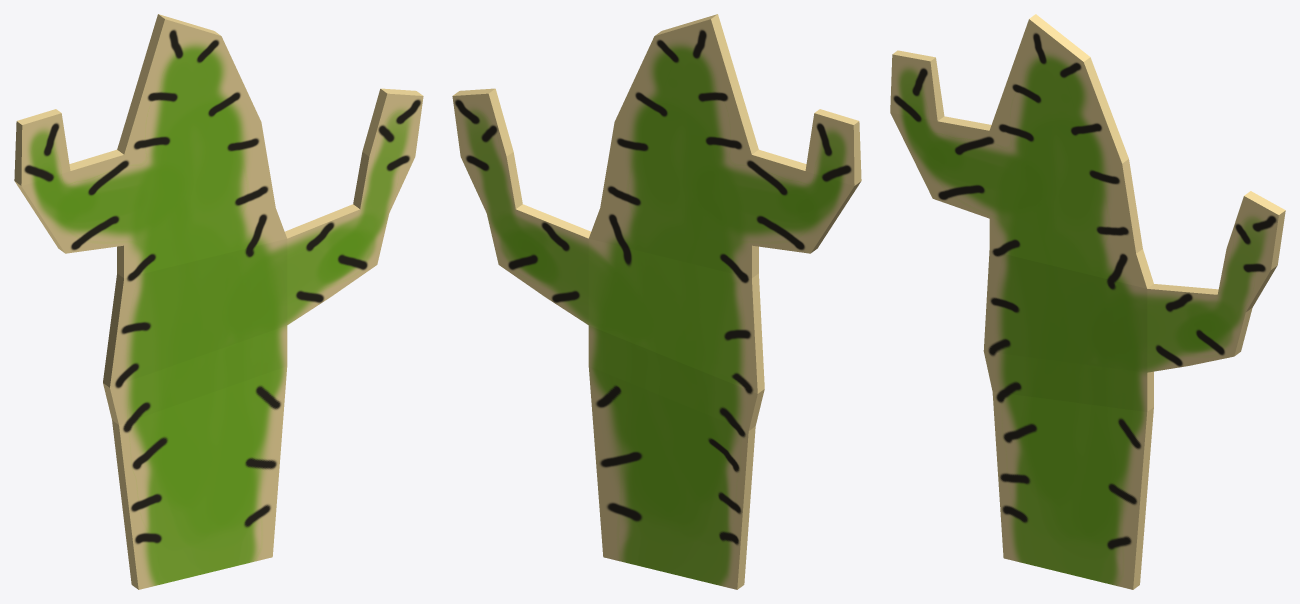
Rendered from Cactus.fbx.
3 renders of one model, left to right at view 1: azimuth 30°, elevation 25°; view 2: azimuth 150°, elevation 25°; view 3: azimuth 330°, elevation 25°, orthographic. The views are drawn at different scales.
Parts seen in each view (by area): view 1: Cube; view 2: Cube; view 3: Cube.
Part boxes in pixels (x1=…): Cube: x1=14, y1=14, x2=423, y2=589; Cube: x1=452, y1=14, x2=861, y2=589; Cube: x1=890, y1=14, x2=1285, y2=589.
Bounding box in the file's own units: 3.08 × 4.14 × 0.1487.
